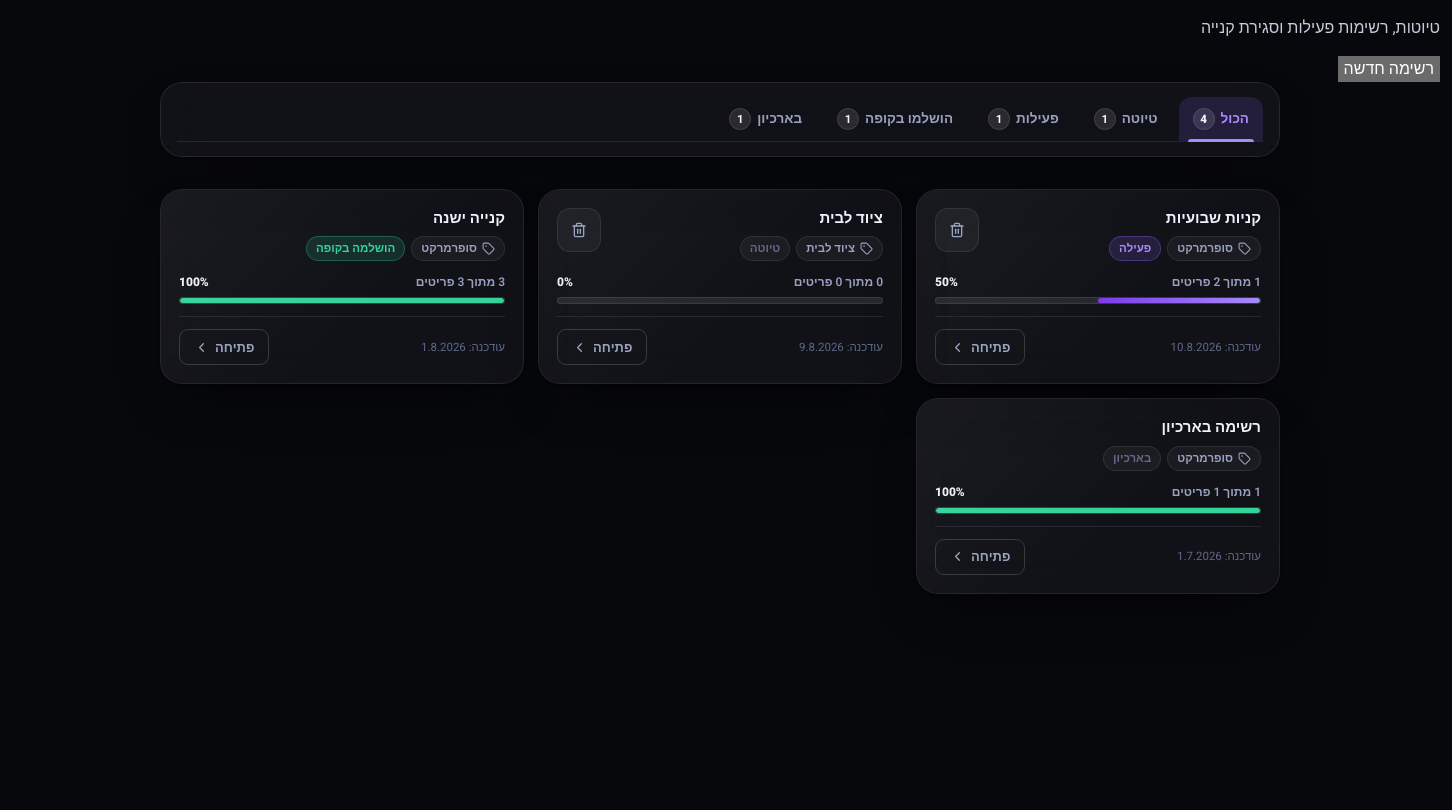
Test: Shopping in-page detail and item lifecycle › renders checked-out lists as read-only without reopen, edit, toggle, or delete actions
This screenshot has width=1452, height=810.
Click the button "פתיחה" next to "1.8.2026" at (224, 347), box [179, 329, 269, 365]
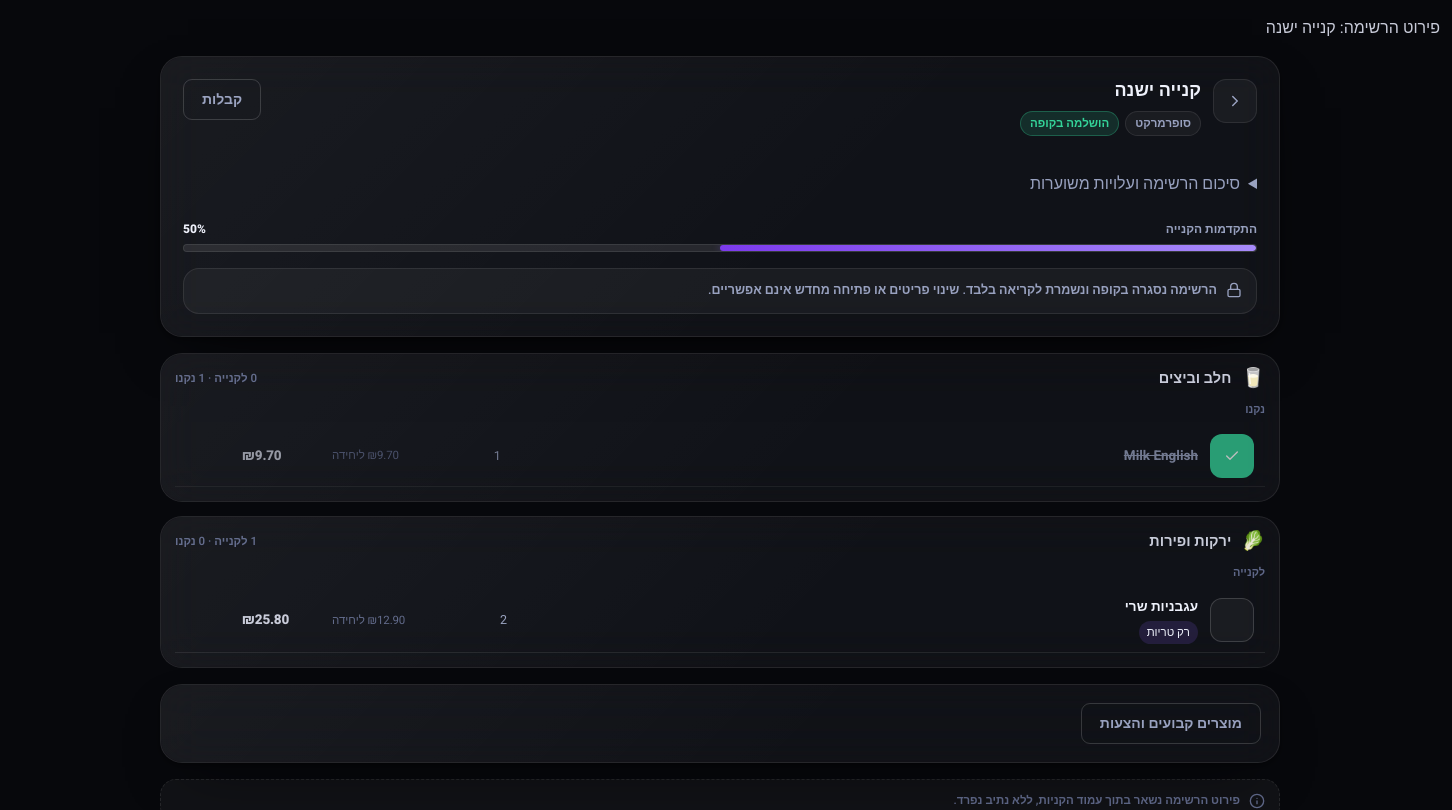
expect the text "נשמרת לקריאה בלבד" is shown: met, box [708, 281, 1217, 299]
